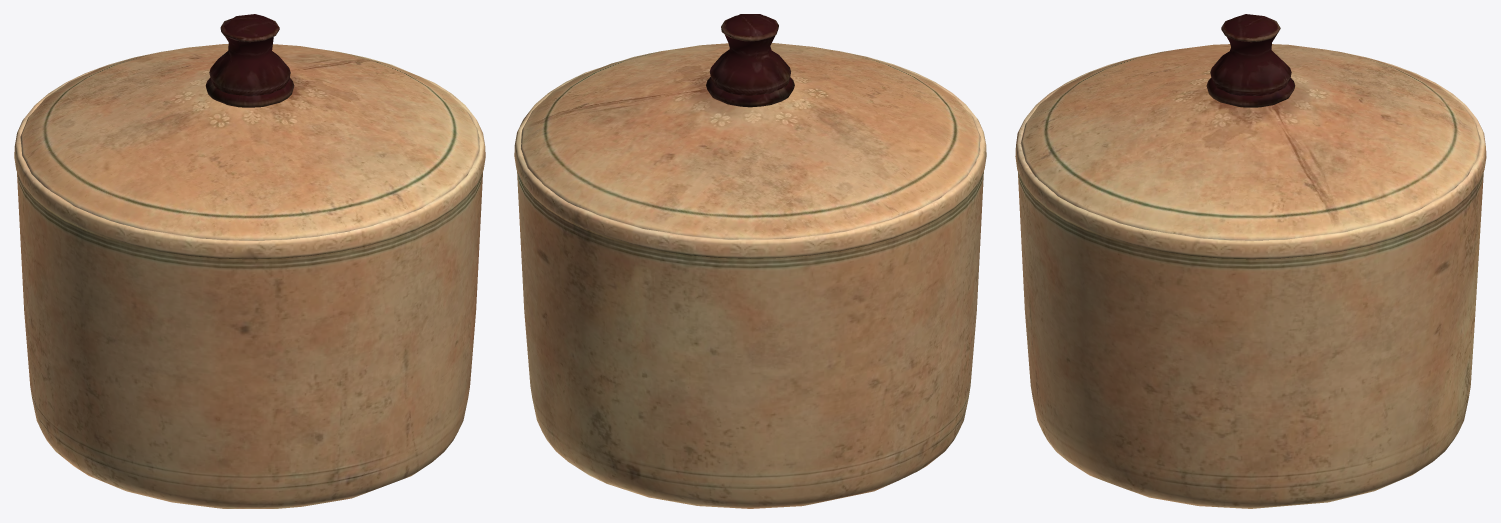
The model's file is brass_pot_01.glb.
3 renders of one model, left to right at view 1: azimuth 30°, elevation 25°; view 2: azimuth 150°, elevation 25°; view 3: azimuth 270°, elevation 25°, orthographic.
Parts seen in each view (by area): view 1: brass_pot_01; view 2: brass_pot_01; view 3: brass_pot_01.
Part boxes in pixels (left/top/right/bottom): brass_pot_01: left=14, top=14, right=485, bottom=508; brass_pot_01: left=514, top=14, right=986, bottom=508; brass_pot_01: left=1015, top=14, right=1486, bottom=508.
Bounding box in the file's own units: 0.3019 × 0.2909 × 0.3017.
1 material, 1 textured.
